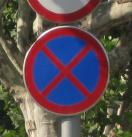No Parking: (24, 25, 111, 120)
